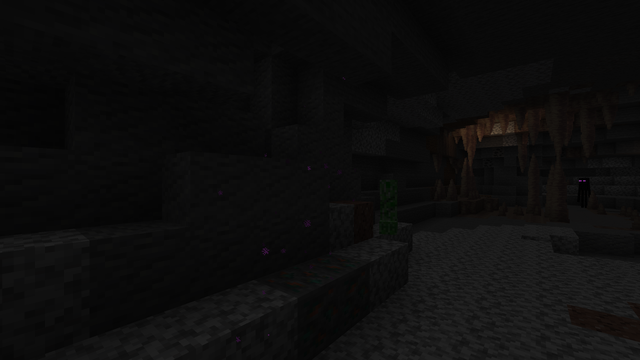creepers: (375, 177, 401, 234)
endermens: (579, 176, 589, 207)
